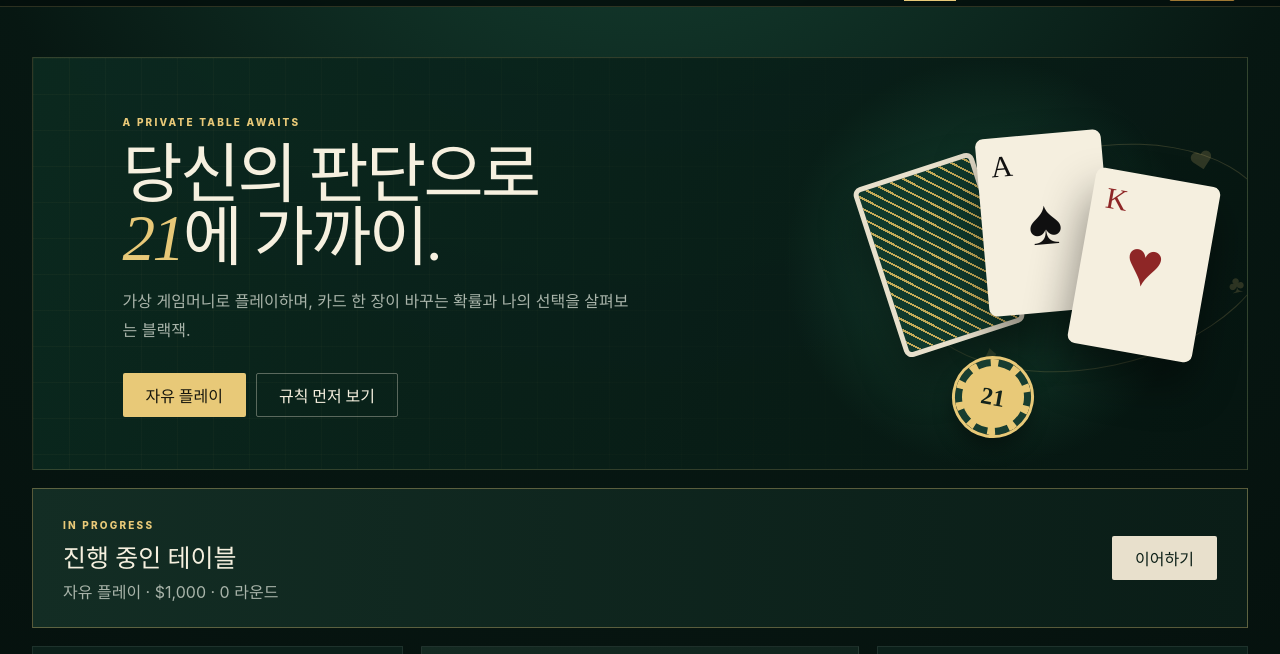
Test: 라운드 회고 사용자 흐름 › HIT 전후 패를 비교하고 정산까지 선택 기록을 유지한다
The width and height of the screenshot is (1280, 654).
Click the button "이어하기": click(1165, 558) x1=1112 y1=536 x2=1217 y2=580
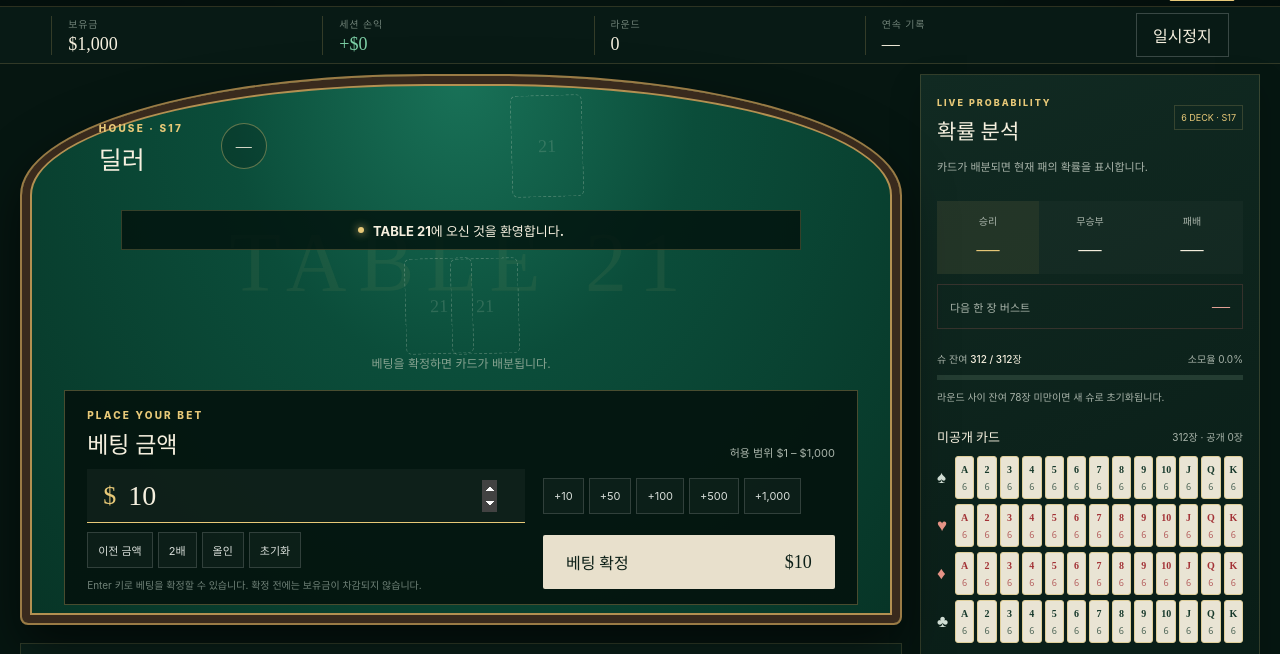
Click the button "베팅 확정 $10": click(597, 563) x1=543 y1=535 x2=835 y2=589
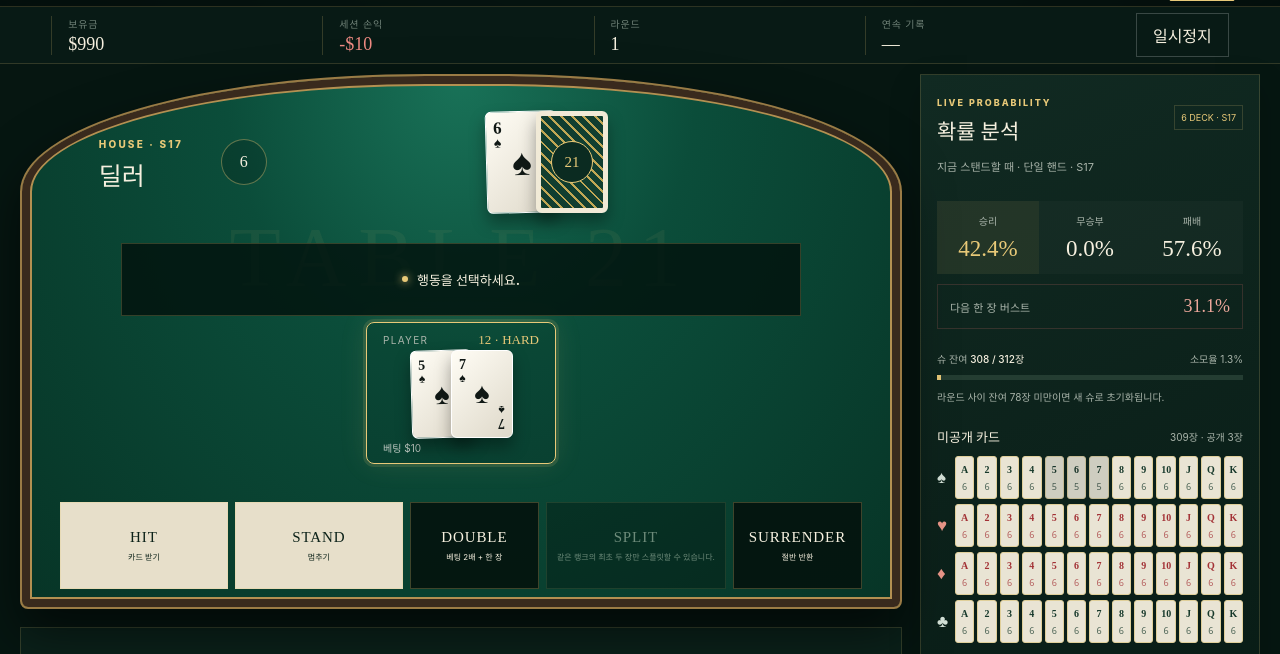
Click the button "HIT 카드 받기": click(144, 546) x1=60 y1=502 x2=228 y2=589
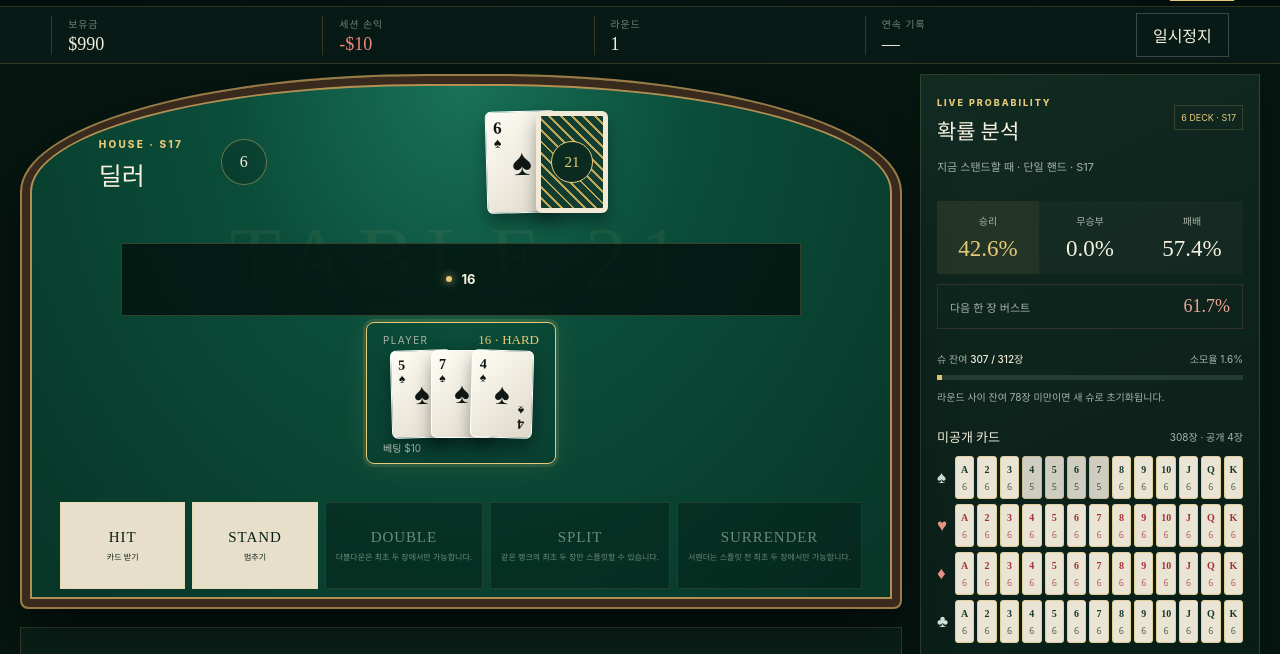
Click the button "STAND 멈추기": click(255, 546) x1=192 y1=502 x2=318 y2=589
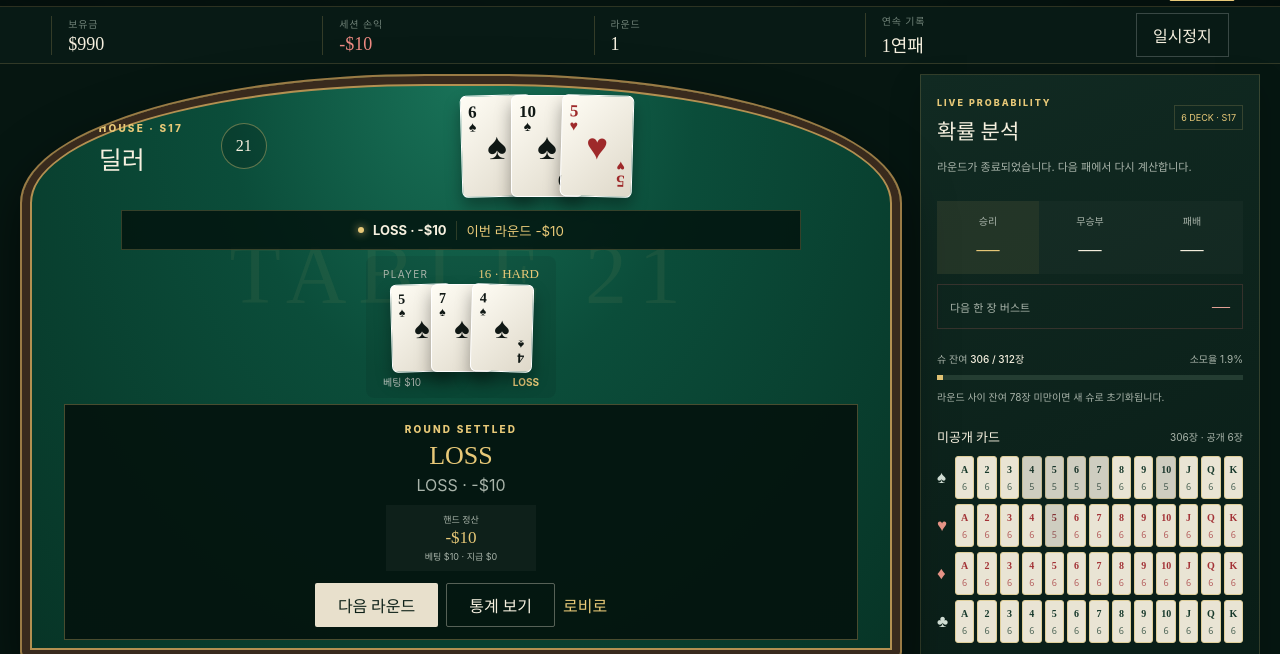
Click the button "다음 라운드": click(377, 605) x1=315 y1=583 x2=438 y2=627
(page scrolled)
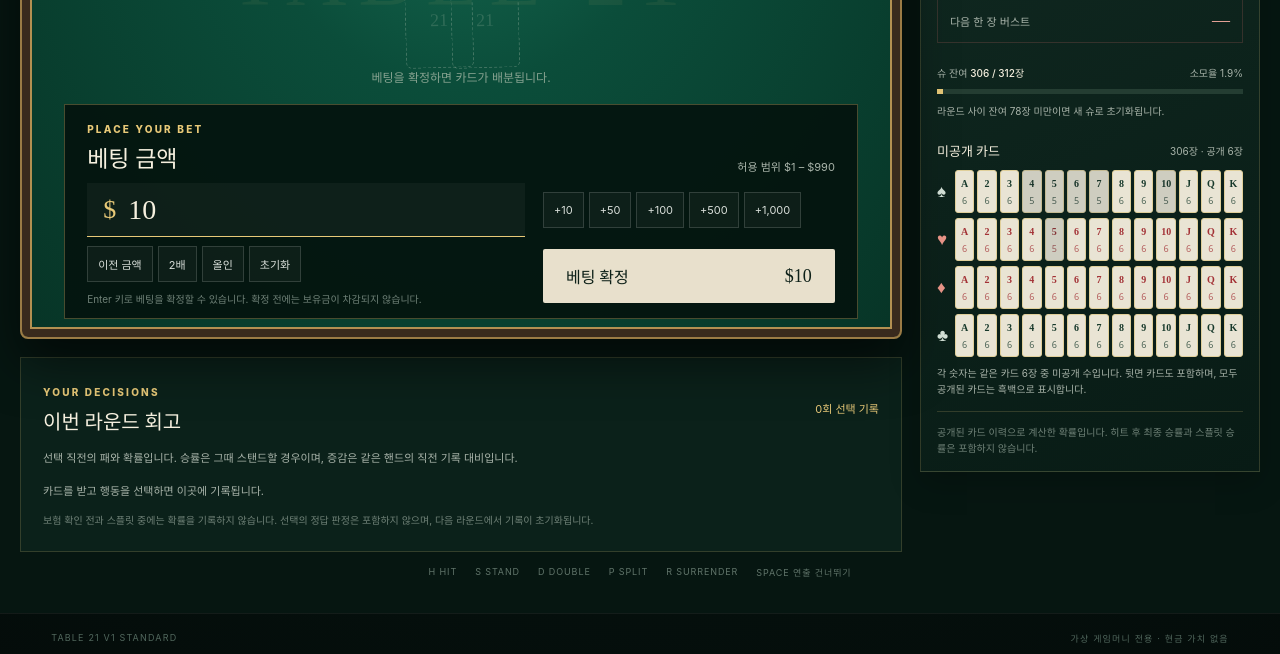
expect the text "0회 선택 기록" is shown: met, box x1=815 y1=400 x2=879 y2=416
